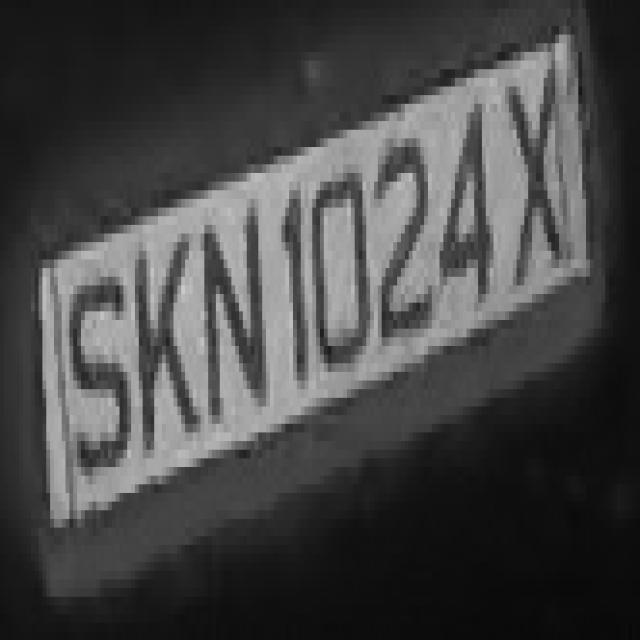0: (305, 147, 374, 407)
1: (274, 165, 316, 406)
2: (362, 130, 440, 372)
4: (424, 78, 497, 346)
K: (123, 225, 197, 467)
N: (197, 182, 266, 432)
S: (58, 251, 127, 493)
X: (494, 35, 582, 312)
